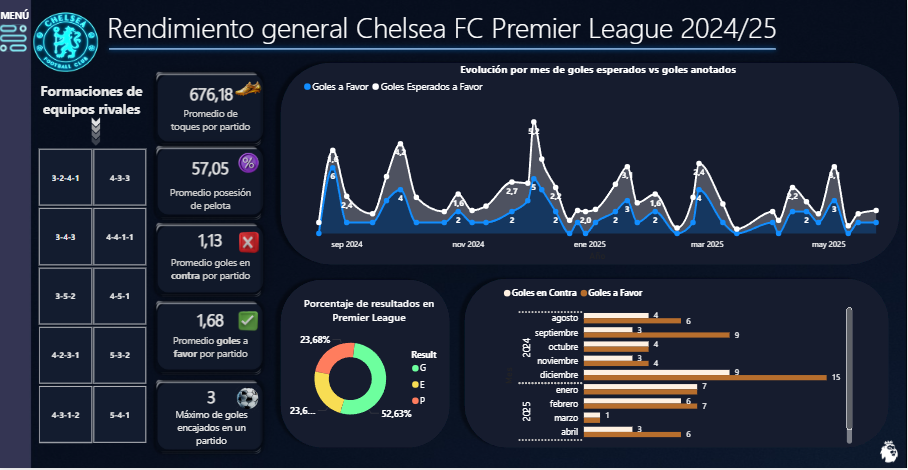

The dashboard page shown, as its layout file describes it:
{"tool":"powerbi","page":{"name":"Estadistica general","canvas":[1400,720],"ordinal":0},"visuals":[{"type":"textbox","box":[164,8,1059.9,97.7],"z":0,"group":"g1"},{"type":"shape","box":[424.5,84.3,975.5,334.2],"z":0},{"type":"image","box":[210,87.7,234.4,159.4],"z":0,"group":"g2"},{"type":"image","box":[210,200.6,234.4,159.4],"z":0,"group":"g3"},{"type":"image","box":[210,319.8,234.4,159.4],"z":0,"group":"g4"},{"type":"image","box":[210,439,234.2,159.3],"z":0,"group":"g5"},{"type":"image","box":[210,561.2,234.2,159.3],"z":0,"group":"g6"},{"type":"image","box":[43.4,0,124.8,131.4],"z":1000},{"type":"shape","box":[164,53.5,1041.2,42.8],"z":1000,"group":"g1"},{"type":"card","fields":{"Values":["Avg(Posesion.Touches)"]},"box":[287.1,115.1,84.4,60.3],"z":1000,"group":"g2"},{"type":"card","fields":{"Values":["Avg(Estadistica general.Poss)"]},"box":[285,230.1,84.4,60.3],"z":1000,"group":"g3"},{"type":"card","fields":{"Values":["Avg(Estadistica general.GA)"]},"box":[285,339.9,84.4,60.3],"z":1000,"group":"g4"},{"type":"card","fields":{"Values":["Avg(Estadistica general.GF)"]},"box":[284.9,463.1,84.3,60.2],"z":1000,"group":"g5"},{"type":"card","fields":{"Values":["Max(Estadistica general.GA)"]},"box":[286.3,580.8,84.3,60.2],"z":1000,"group":"g6"},{"type":"textbox","box":[259,158,136.6,72.3],"z":2000,"group":"g2"},{"type":"textbox","box":[259.6,281,136.6,72.3],"z":2000,"group":"g3"},{"type":"textbox","box":[259.6,388.1,136.6,72.3],"z":2000,"group":"g4"},{"type":"image","box":[358.6,468.4,56.2,50.9],"z":2000,"group":"g5"},{"type":"textbox","box":[260.7,621.2,136.5,72.3],"z":2000,"group":"g6"},{"type":"image","box":[355.4,107.1,58.9,56.3],"z":3000,"group":"g2"},{"type":"image","box":[362.7,225.9,48.2,52.2],"z":3000,"group":"g3"},{"type":"image","box":[360,347.9,52.2,48.2],"z":3000,"group":"g4"},{"type":"shape","box":[424.5,418.7,283.5,282],"z":3000},{"type":"textbox","box":[259.5,508.6,136.5,72.3],"z":3000,"group":"g5"},{"type":"image","box":[350.7,586.6,68.3,50.9],"z":3000,"group":"g6"},{"type":"donutChart","title":"Porcentaje de resultados en Premier League","fields":{"Category":["Estadistica general.Result"],"Y":["CountNonNull(Estadistica general.Result)"]},"box":[444.9,455,255.9,212.3],"z":4000},{"type":"stackedAreaChart","fields":{"Category":["Estadistica general.Fecha.Variación.Jerarquía de fechas.Año","Estadistica general.Fecha.Variación.Jerarquía de fechas.Mes","Estadistica general.Fecha.Variación.Jerarquía de fechas.Día"],"Y":["Sum(Estadistica general.GF)","Sum(Estadistica general.xG)"]},"box":[466.7,111.9,917.3,293.7],"z":5000},{"type":"shape","box":[708,417.2,676,283.5],"z":6000},{"type":"clusteredBarChart","fields":{"Category":["Estadistica general.Fecha.Variación.Jerarquía de fechas.Año","Estadistica general.Fecha.Variación.Jerarquía de fechas.Mes"],"Y":["Sum(Estadistica general.GA)","Sum(Estadistica general.GF)"]},"box":[773.4,430.3,546.6,257.3],"z":7000},{"type":"slicer","fields":{"Values":["Estadistica general.Opp Formation"]},"box":[38,219.5,215.5,468.4],"z":8000},{"type":"group","id":"g1","title":"titulo concentracion","box":[164,8,1059.9,97.7],"z":9000},{"type":"image","box":[1344.8,667.3,55.2,52.3],"z":10000},{"type":"group","id":"g2","title":"tarjeta avg toques","box":[210,87.7,234.5,159.3],"z":11000},{"type":"group","id":"g3","title":"tarjeta avg poss","box":[210,200.6,233.8,159.9],"z":12000},{"type":"group","id":"g4","title":"tarjeta avg golescontra","box":[210,319.8,233.8,159.9],"z":13000},{"type":"group","id":"g5","title":"tarjeta avg golesfavor","box":[210,439,233.8,159.9],"z":14000},{"type":"group","id":"g6","title":"tarjeta avg max contra","box":[210,561.2,233.8,158.4],"z":15000},{"type":"textbox","box":[46.8,120.4,198.1,74.9],"z":16000},{"type":"image","box":[124,176,54.9,53.5],"z":17000},{"type":"image","box":[198.1,93.7,235.5,147.2],"z":18000},{"type":"image","box":[198.1,207.4,235.5,147.2],"z":19000},{"type":"image","box":[198.1,326.5,235.5,147.2],"z":20000},{"type":"image","box":[198.1,445.7,235.5,147.2],"z":21000},{"type":"textbox","box":[707.5,90.3,460.6,58.7],"z":21500},{"type":"image","box":[198.1,567.4,235.5,147.2],"z":22000},{"type":"textbox","box":[0,7.3,106.1,34.9],"z":23000},{"type":"actionButton","title":"menu button","box":[0,34.3,50,50],"z":26001}]}

Visuals, with their boxes in screenshot pixels (x1, y1, x2, y2), scaled from the page's 1400x720 canvas onto the 908x470 screenshot:
textbox: [106,5,794,69]
shape: [275,55,907,273]
image: [136,57,288,161]
image: [136,131,288,235]
image: [136,209,288,313]
image: [136,287,288,391]
image: [136,366,288,469]
image: [28,0,109,86]
shape: [106,35,782,63]
card - Avg(Posesion.Touches): [186,75,241,114]
card - Avg(Estadistica general.Poss): [185,150,240,190]
card - Avg(Estadistica general.GA): [185,222,240,261]
card - Avg(Estadistica general.GF): [185,302,239,342]
card - Max(Estadistica general.GA): [186,379,240,418]
textbox: [168,103,257,150]
textbox: [168,183,257,231]
textbox: [168,253,257,301]
image: [233,306,269,339]
textbox: [169,406,258,453]
image: [231,70,269,107]
image: [235,147,266,182]
image: [233,227,267,259]
shape: [275,273,459,457]
textbox: [168,332,257,379]
image: [227,383,272,416]
"Porcentaje de resultados en Premier League" donutChart: [289,297,455,436]
stackedAreaChart - Estadistica general.Fecha.Variación.Jerarquía de fechas.Año x Estadistica general.Fecha.Variación.Jerarquía de fechas.Mes: [303,73,898,265]
shape: [459,272,898,457]
clusteredBarChart - Estadistica general.Fecha.Variación.Jerarquía de fechas.Año x Estadistica general.Fecha.Variación.Jerarquía de fechas.Mes: [502,281,856,449]
slicer - Estadistica general.Opp Formation: [25,143,164,449]
"titulo concentracion" group: [106,5,794,69]
image: [872,436,907,469]
"tarjeta avg toques" group: [136,57,288,161]
"tarjeta avg poss" group: [136,131,288,235]
"tarjeta avg golescontra" group: [136,209,288,313]
"tarjeta avg golesfavor" group: [136,287,288,391]
"tarjeta avg max contra" group: [136,366,288,469]
textbox: [30,79,159,127]
image: [80,115,116,150]
image: [128,61,281,157]
image: [128,135,281,231]
image: [128,213,281,309]
image: [128,291,281,387]
textbox: [459,59,758,97]
image: [128,370,281,466]
textbox: [0,5,69,28]
"menu button" actionButton: [0,22,32,55]
